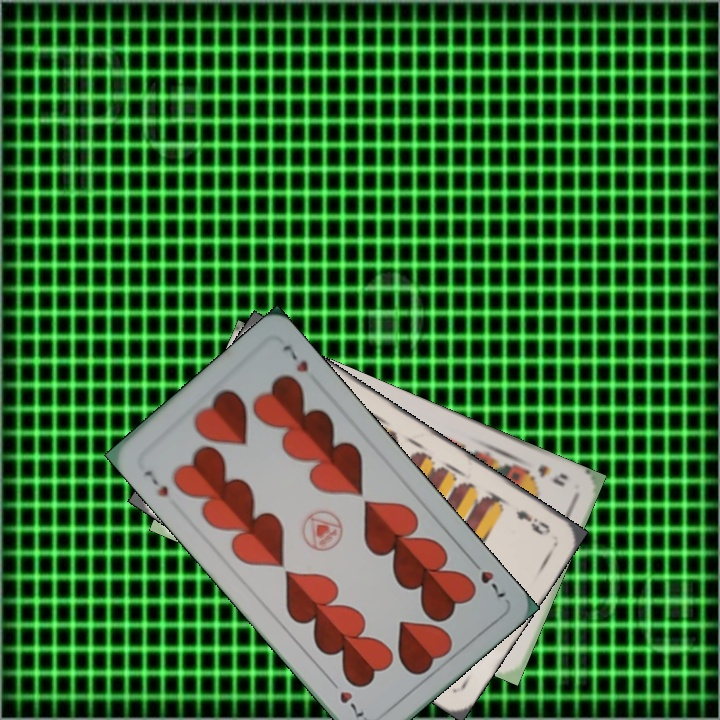E9: (511, 506, 553, 538)
H7: (466, 554, 509, 601), (139, 466, 171, 500)
S9: (517, 460, 572, 489)
